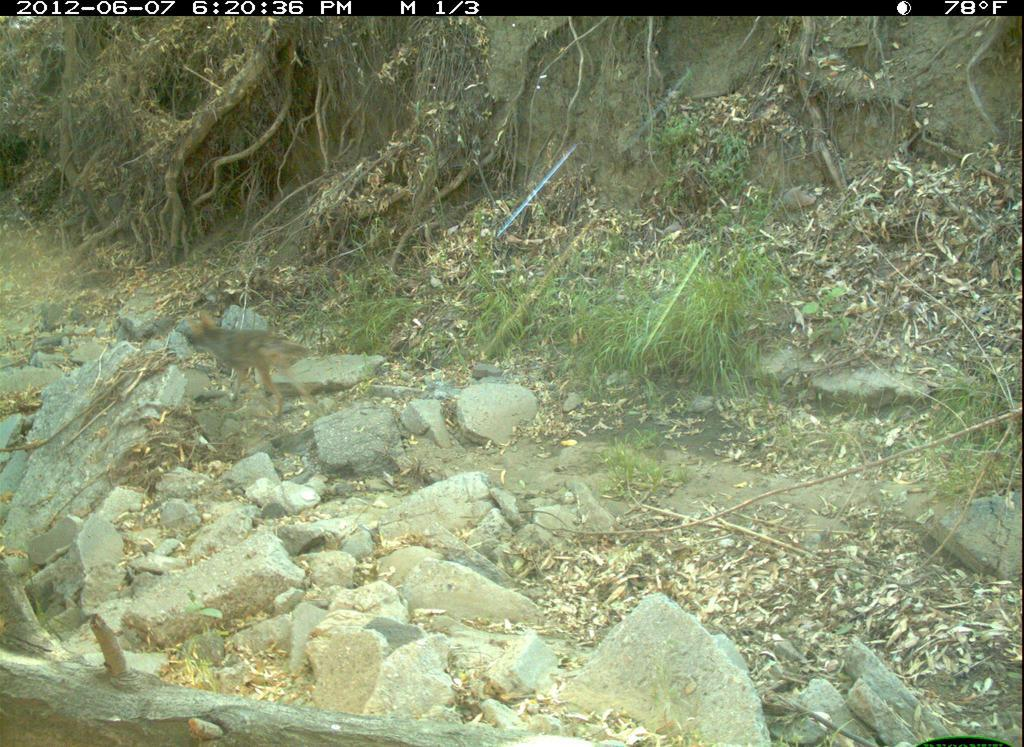coyote: (177, 312, 319, 423)
